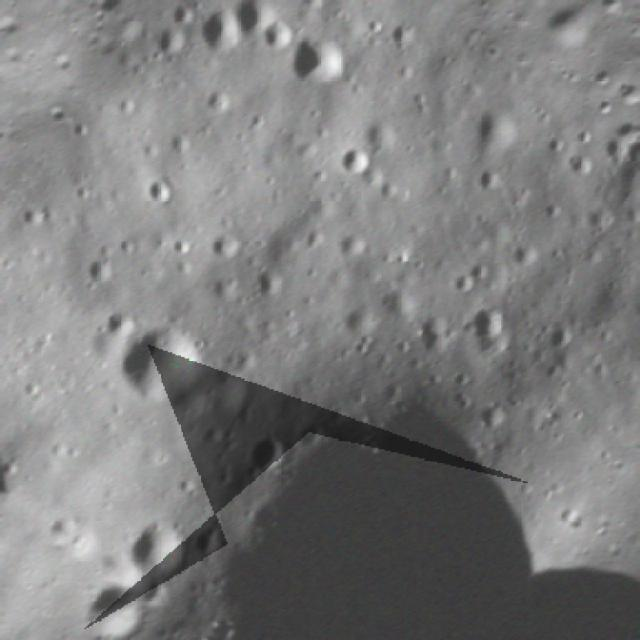crater: (94, 300, 224, 432), (269, 22, 368, 120), (115, 510, 198, 593), (456, 96, 536, 175), (228, 414, 304, 492), (449, 290, 516, 356), (210, 0, 286, 55), (188, 2, 249, 67), (70, 245, 127, 301), (198, 220, 256, 275), (328, 298, 386, 353), (249, 16, 303, 73), (329, 138, 382, 190), (240, 263, 292, 312), (467, 394, 518, 443), (131, 164, 180, 213), (536, 312, 582, 356), (187, 527, 225, 567)
